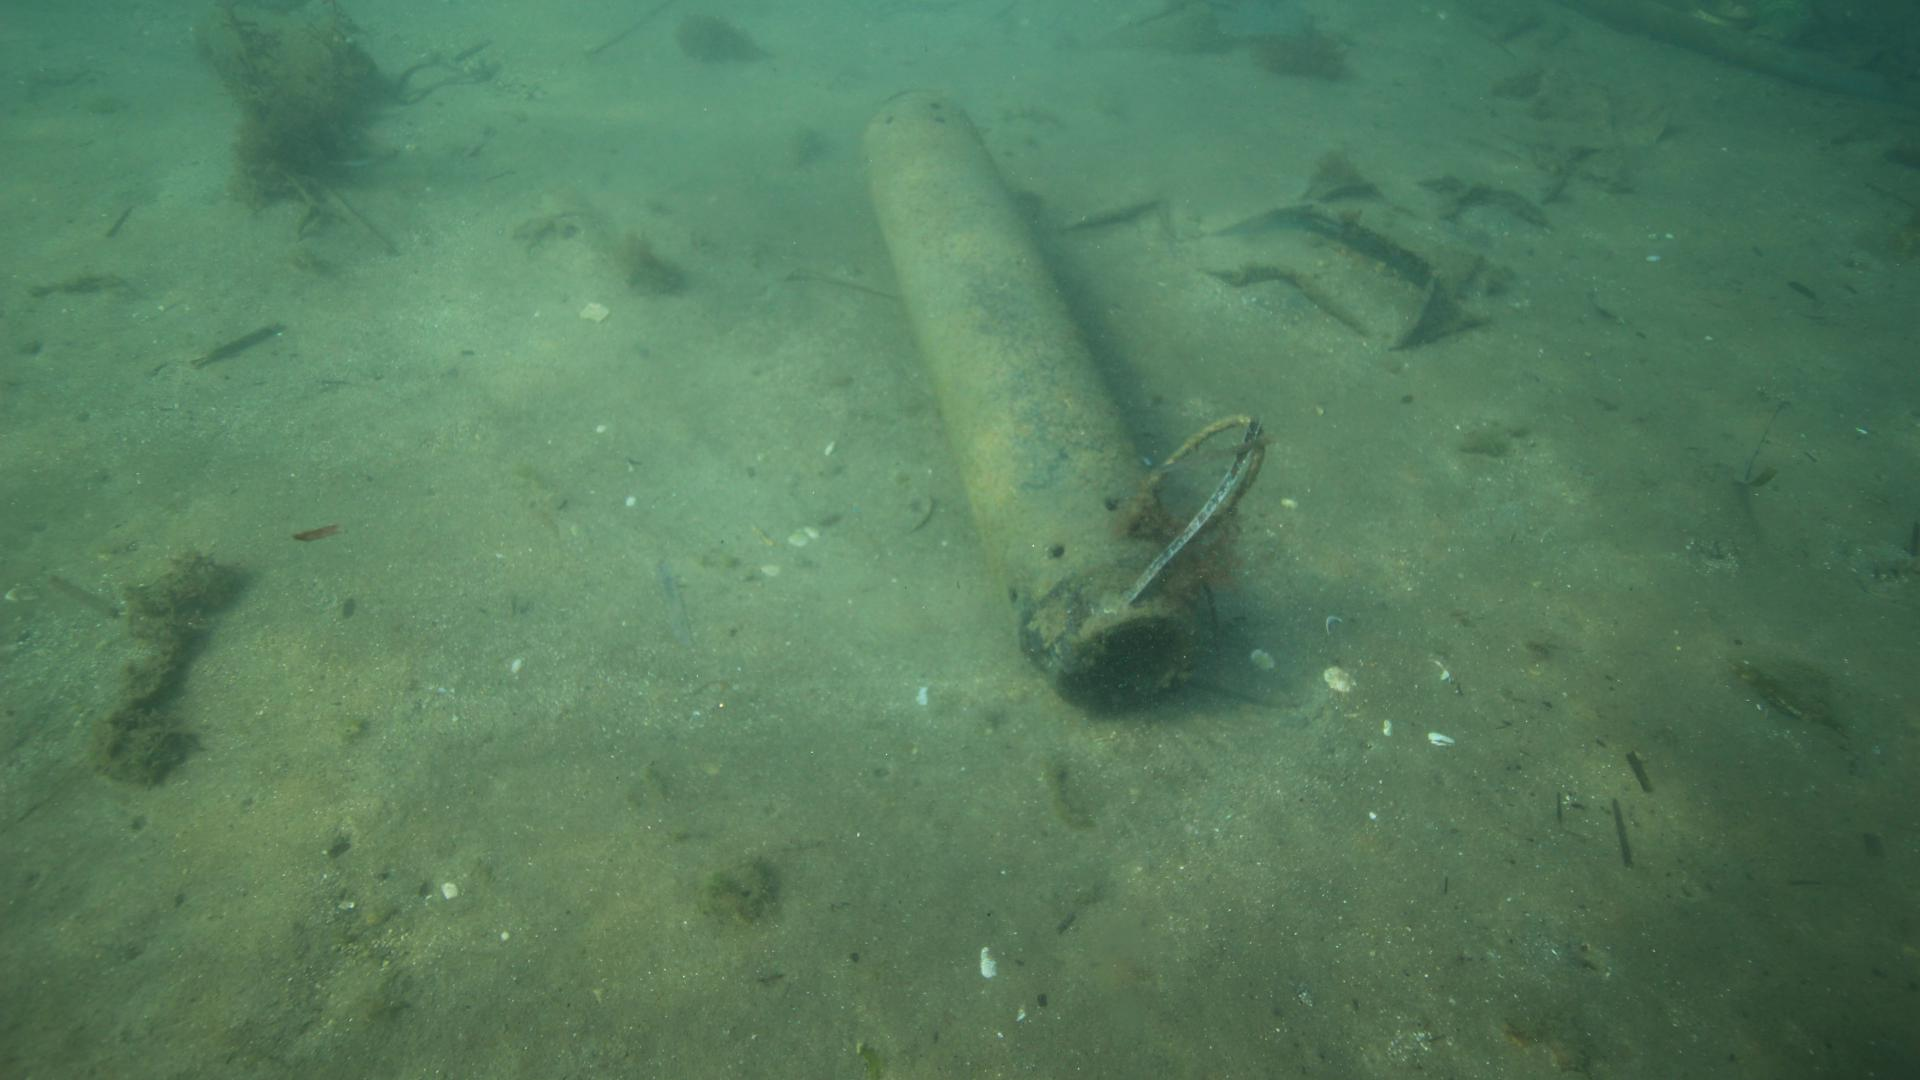eel fish trap: (858, 83, 1207, 712)
rope: (1121, 411, 1269, 543)
